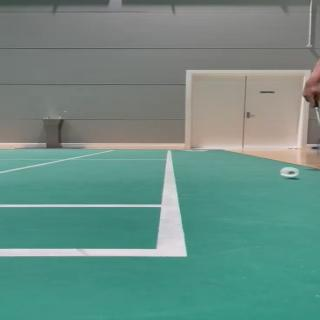Shuttle: (280, 167, 300, 177)
